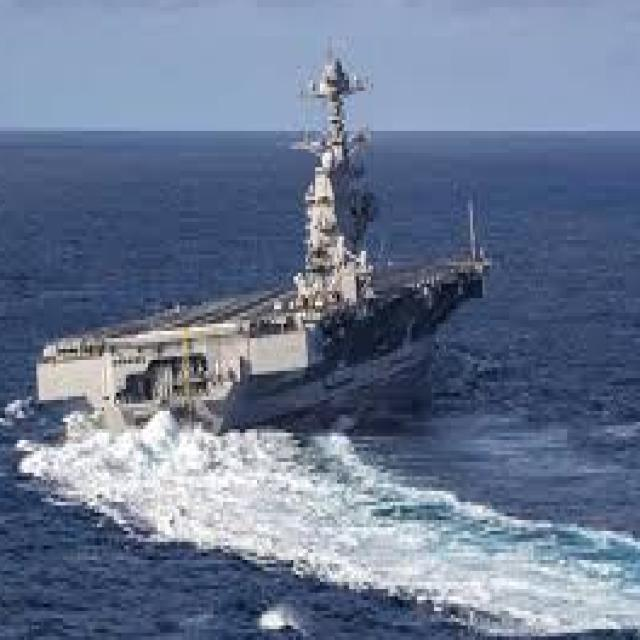navalvessels: (45, 42, 495, 464)
